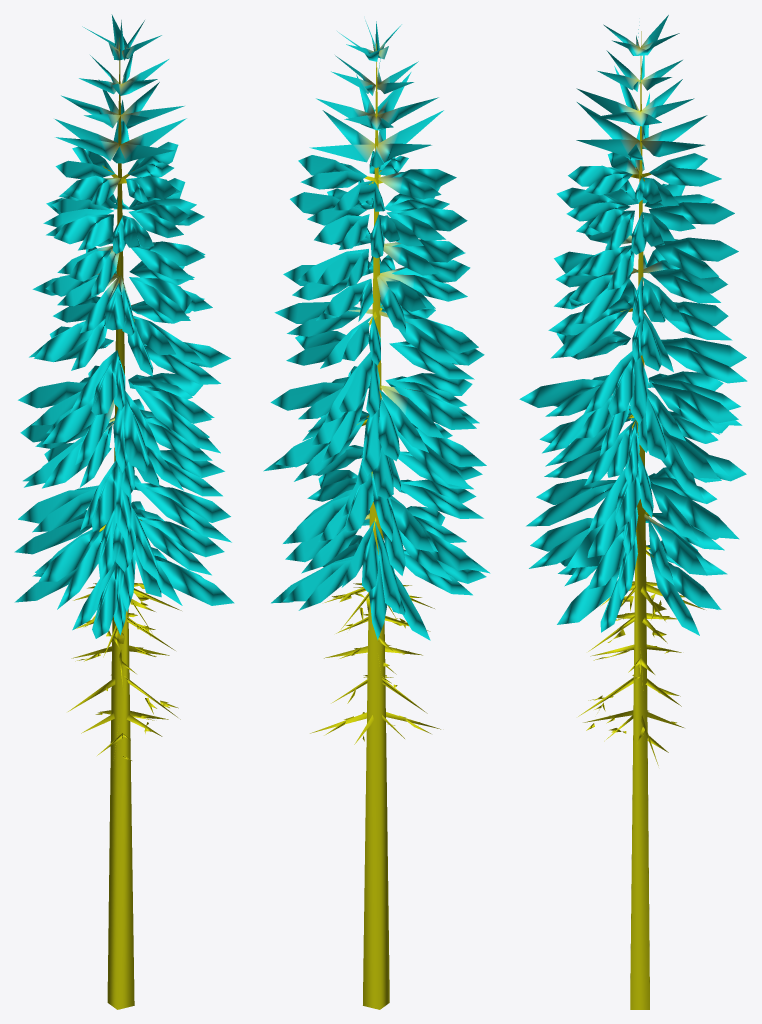
Rendered from fir_lod1.gltf.
3 renders of one model, left to right at view 1: azimuth 30°, elevation 25°; view 2: azimuth 150°, elevation 25°; view 3: azimuth 270°, elevation 25°, orthographic.
Visible parts, largest first — view 1: tree; view 2: tree; view 3: tree.
Part boxes in pixels (left/top/right/bottom): tree: left=14, top=14, right=234, bottom=1009; tree: left=263, top=20, right=490, bottom=1009; tree: left=519, top=15, right=747, bottom=1009.
Bounding box in the file's own units: 4.5 × 22 × 4.6.
